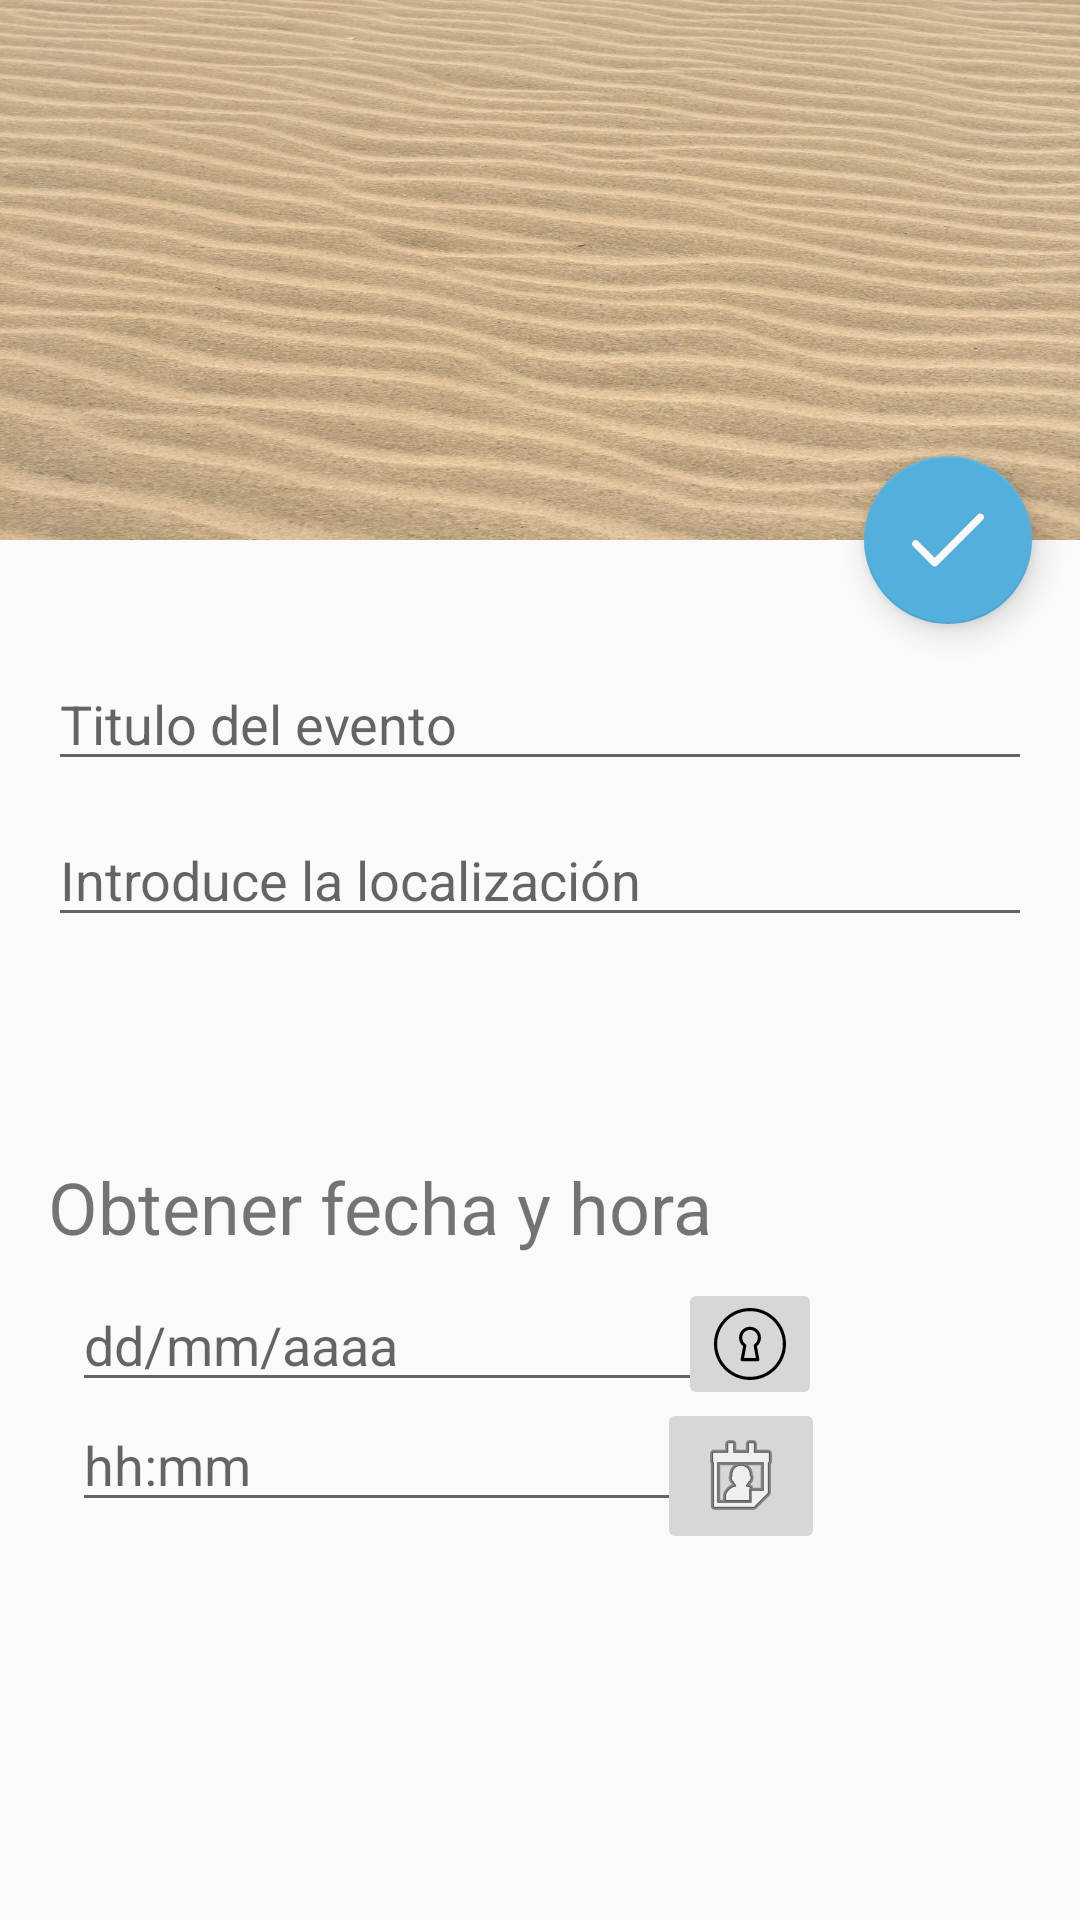

Point at icon controls on the screen. Image size 1080 x 1920, points as [x,y].
calendar: [735,1476]
keyhole: [744,1344]
tick: [948,540]
